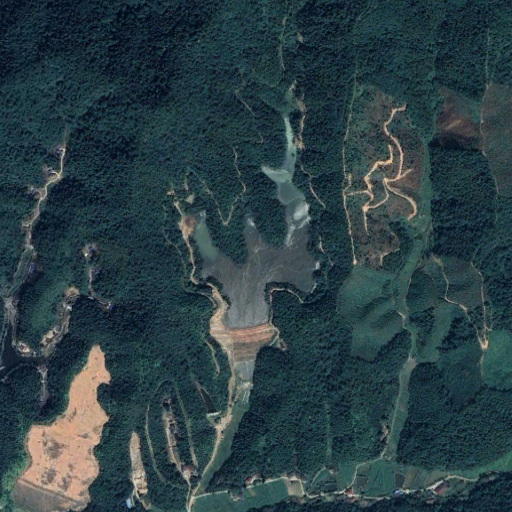tp: (187, 111, 319, 364)
